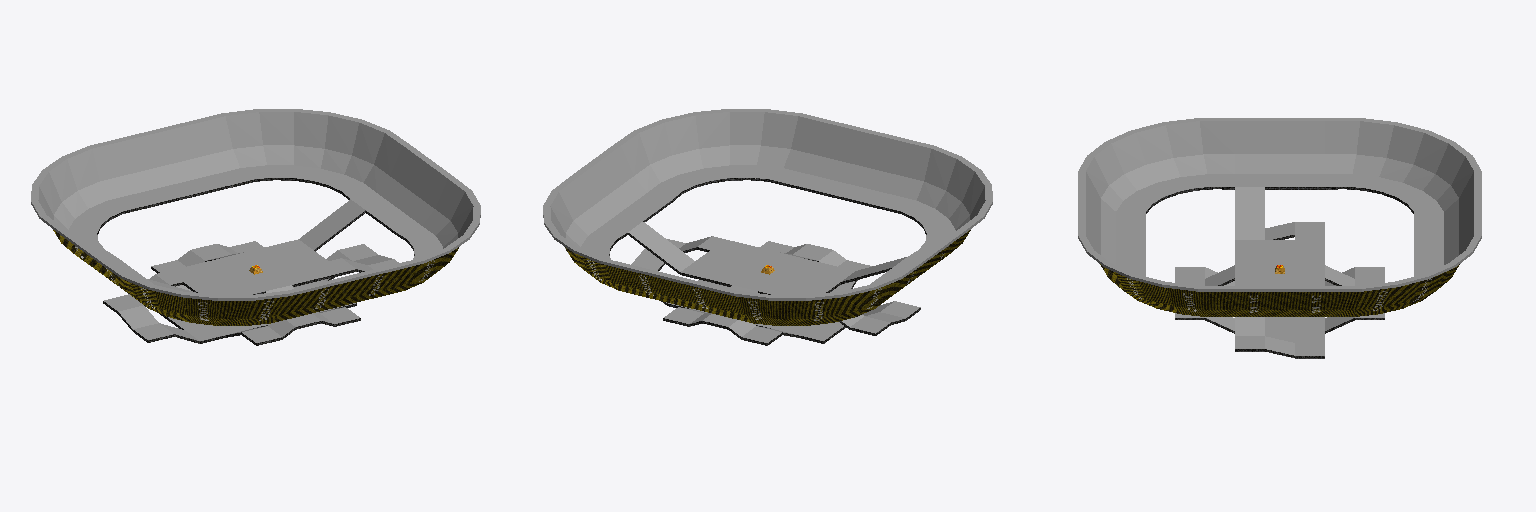
3 views of the same model, side by side, from view 1: azimuth 30°, elevation 25°; view 2: azimuth 150°, elevation 25°; view 3: azimuth 270°, elevation 25° (orthographic).
Parts seen in each view (by area): view 1: Cube.006_Cube.008, Cube.001, Cube.007_Cube.009, Cube, Cube.002; view 2: Cube.006_Cube.008, Cube.001, Cube.007_Cube.009, Cube, Cube.002; view 3: Cube.006_Cube.008, Cube.001, Cube.007_Cube.009, Cube, Cube.002.
Part boxes in pixels (left/top/right/bottom): Cube.006_Cube.008: left=38, top=112, right=473, bottom=248; Cube.001: left=68, top=165, right=442, bottom=342; Cube.007_Cube.009: left=53, top=230, right=458, bottom=325; Cube: left=31, top=109, right=480, bottom=300; Cube.002: left=97, top=178, right=414, bottom=345; Cube.006_Cube.008: left=550, top=112, right=985, bottom=248; Cube.001: left=581, top=165, right=955, bottom=342; Cube.007_Cube.009: left=565, top=230, right=970, bottom=325; Cube: left=543, top=109, right=992, bottom=300; Cube.002: left=609, top=178, right=926, bottom=345; Cube.006_Cube.008: left=1086, top=121, right=1473, bottom=264; Cube.001: left=1116, top=174, right=1443, bottom=355; Cube.007_Cube.009: left=1100, top=264, right=1459, bottom=316; Cube: left=1078, top=118, right=1481, bottom=291; Cube.002: left=1146, top=187, right=1413, bottom=358.
Size of the model in its own units: 27 by 7.7 by 26.79.
Materials: 8 (3 with a texture image).